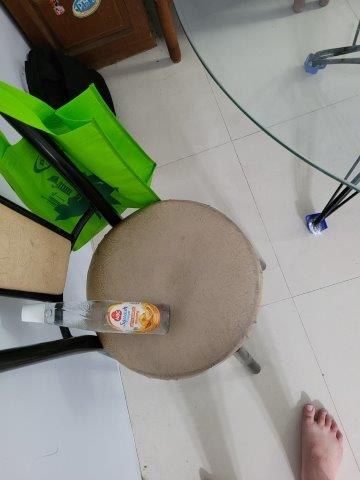botolkaca: (21, 300, 171, 334)
